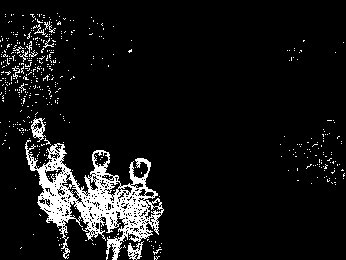person: (106, 157, 168, 260), (72, 149, 122, 259), (36, 142, 81, 260), (21, 116, 55, 171)
